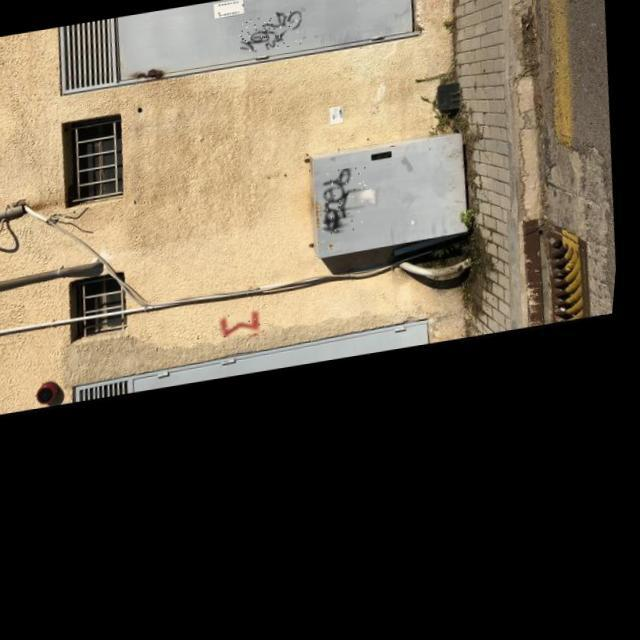-: (319, 168, 375, 239), (237, 12, 306, 56), (223, 312, 269, 341)
